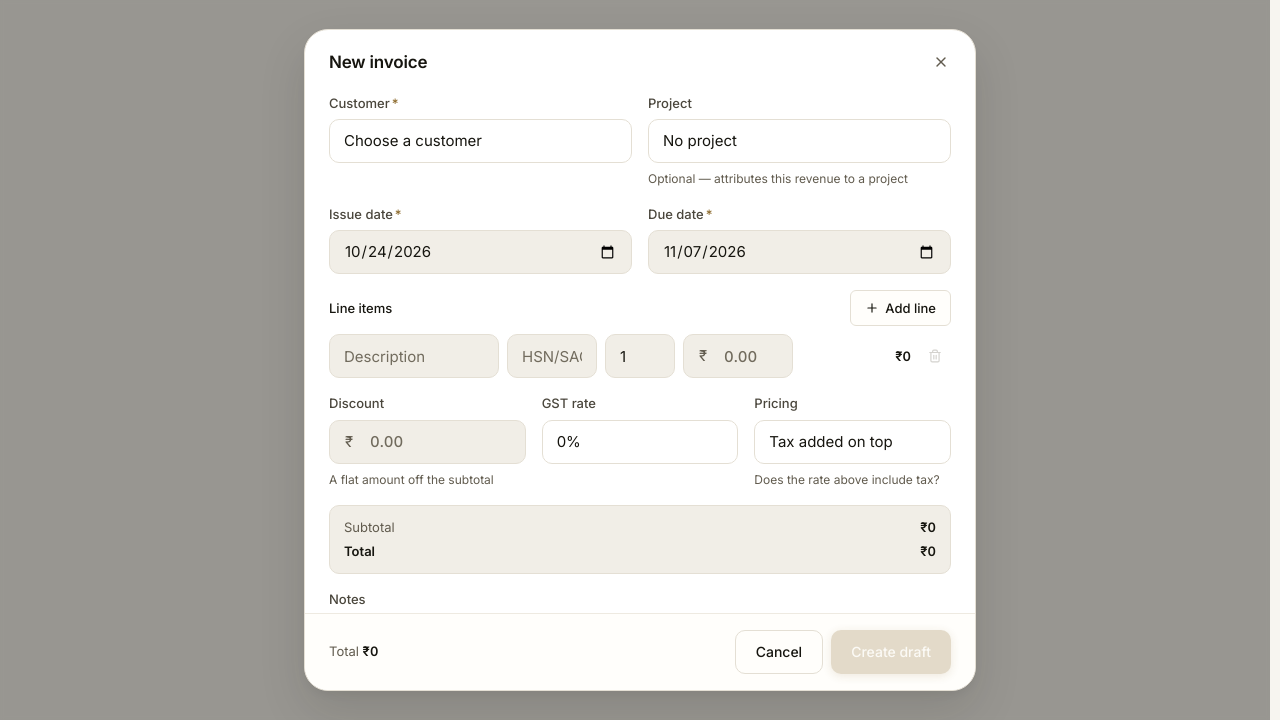
Scenario: invoice line items (§Phase 16) › a second line gets its own numbered names, so the fields are distinguishable
Click the button "Add line" at (901, 308), box left=850, top=290, right=951, bottom=326
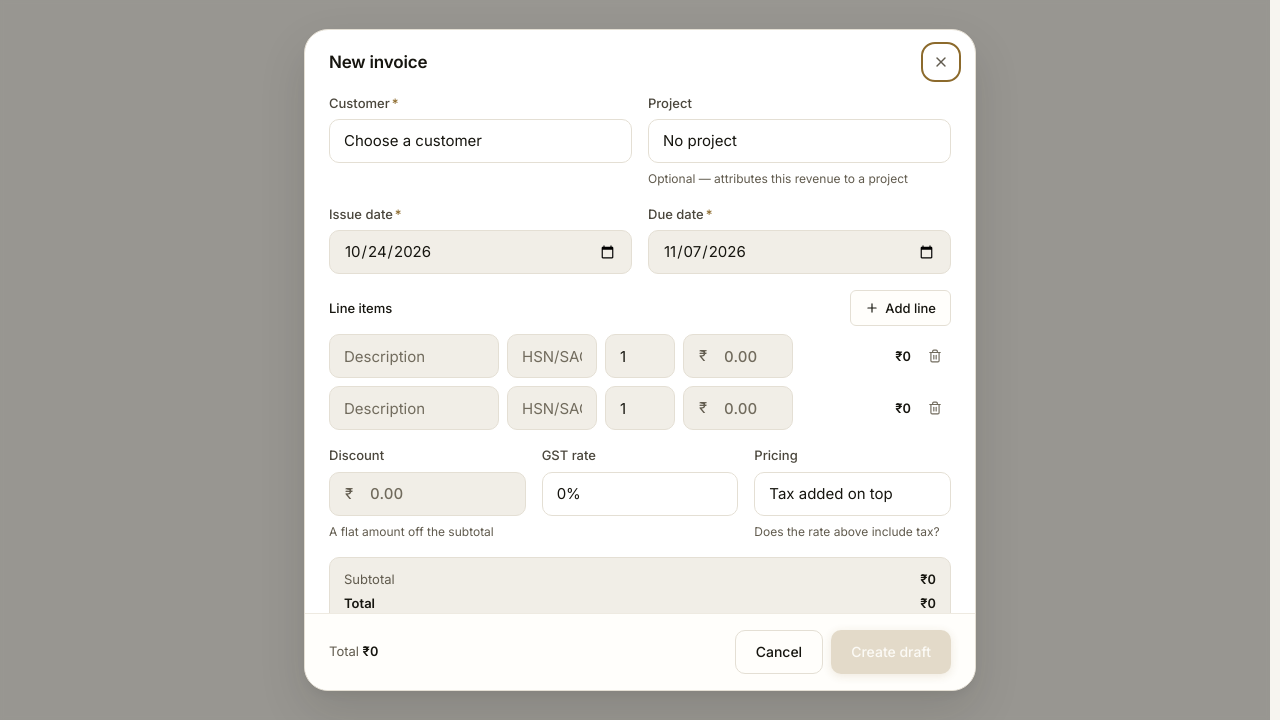
Expected: the number field named "Quantity, line 1" is shown, left=605, top=334, right=675, bottom=378
Expected: the number field named "Quantity, line 2" is shown, left=605, top=386, right=675, bottom=430
